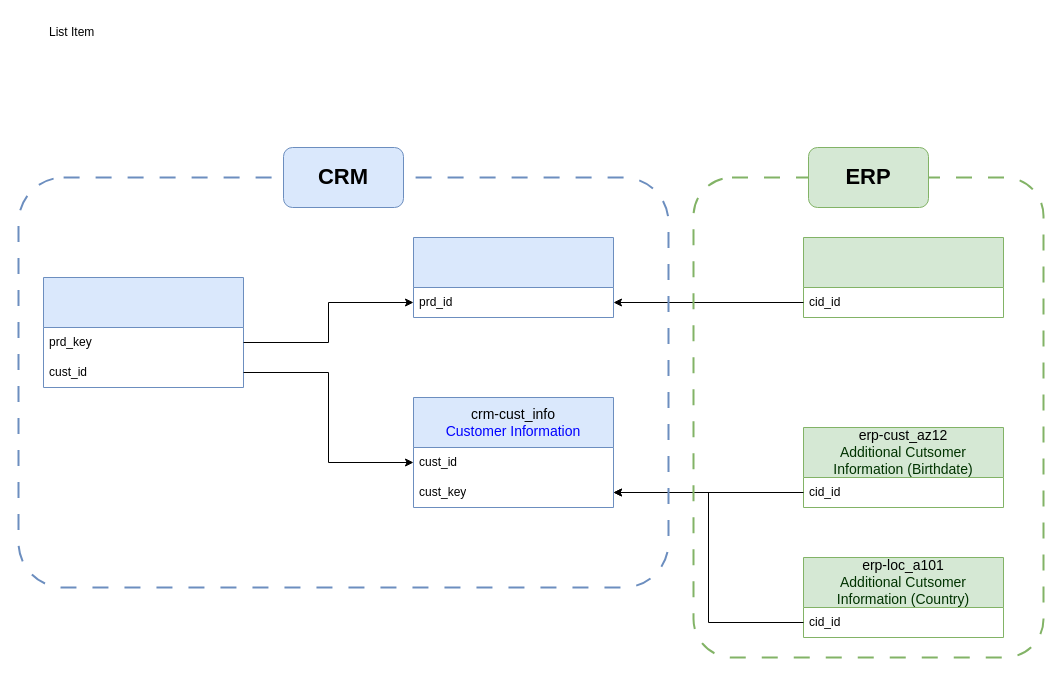
This 1061x675 diagram has some shape labels left out. The box of each missing label's shape, as (x1, y1, x2, y2) in pixels:
crm-prd_info Customer & History Product Information: (412, 236, 614, 318)
crm-sales_details Transactional Records aboot Sales & Orders: (42, 276, 244, 388)
erp-px_cat_g1v2 Product Categories: (802, 236, 1004, 318)
